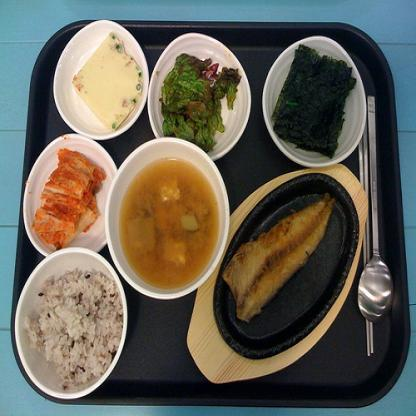Peixe: (219, 178, 342, 323)
